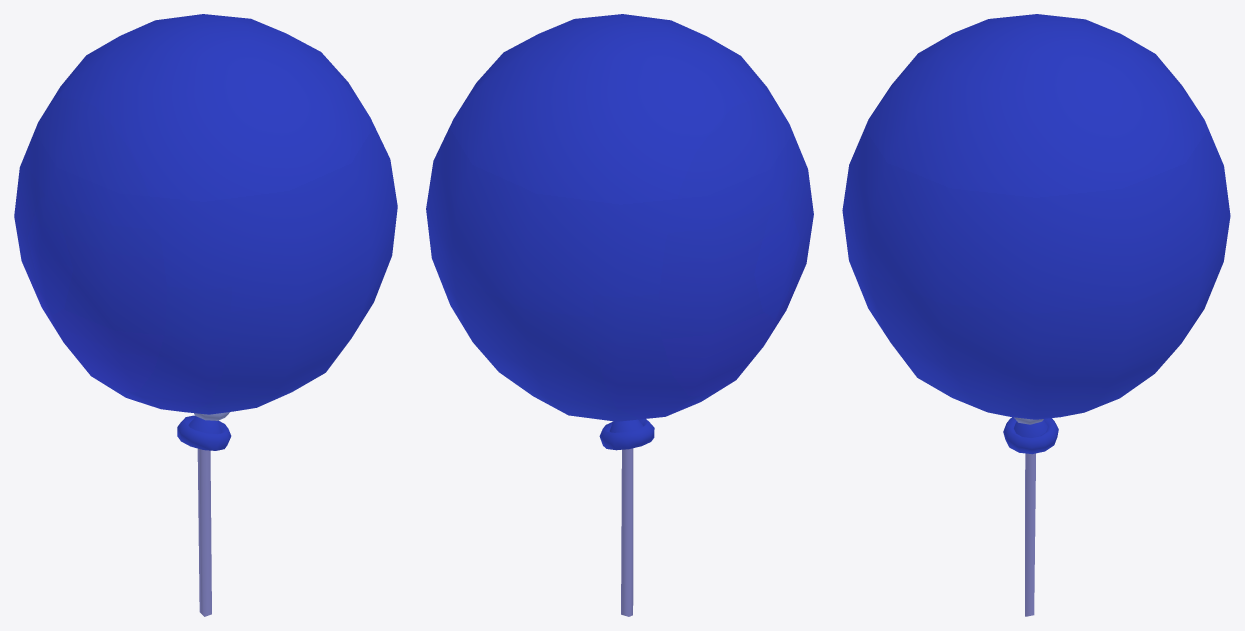
The model's file is balloon-2.glb.
The picture shows the model from 3 angles, left to right: view 1: azimuth 30°, elevation 25°; view 2: azimuth 150°, elevation 25°; view 3: azimuth 270°, elevation 25°; orthographic projection.
Size of the model in its own units: 5.36 by 8.94 by 5.36.
Materials: 1 (1 with a texture image).
